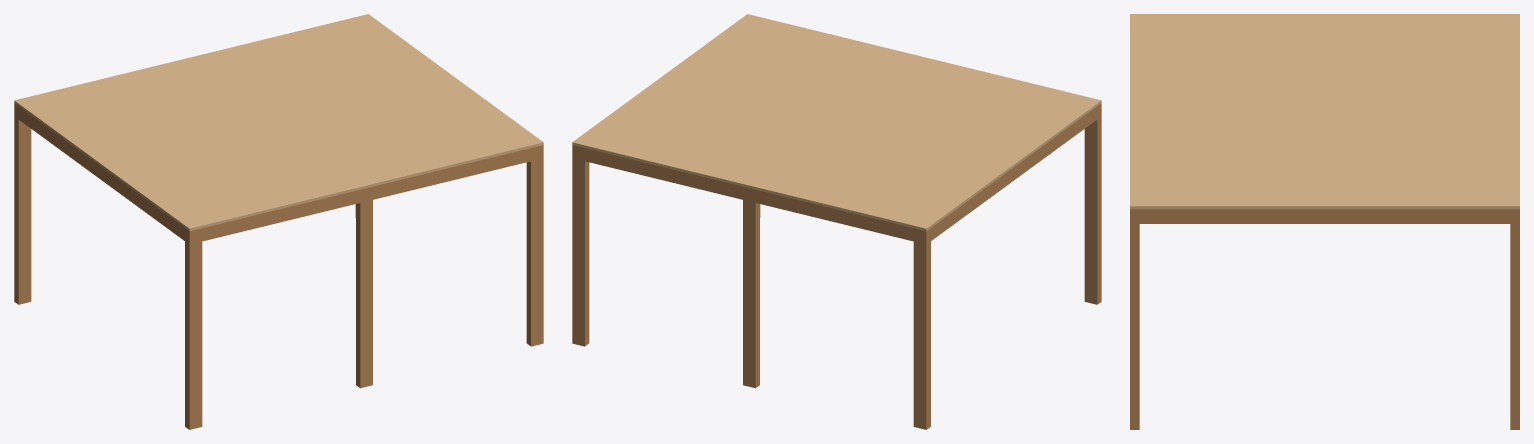
Rendered from van_bed_platform.far.glb.
3 renders of one model, left to right at view 1: azimuth 30°, elevation 25°; view 2: azimuth 150°, elevation 25°; view 3: azimuth 270°, elevation 25°, orthographic. The views are drawn at different scales.
Parts seen in each view (by area): view 1: van_bed_platform; view 2: van_bed_platform; view 3: van_bed_platform.
Part boxes in pixels (left/top/right/bottom): van_bed_platform: left=14, top=14, right=543, bottom=429; van_bed_platform: left=572, top=14, right=1101, bottom=429; van_bed_platform: left=1130, top=14, right=1519, bottom=429.
Size of the model in its own units: 1.78 by 0.9652 by 1.52.
